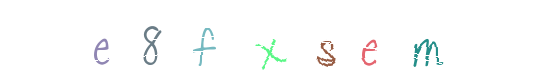8: (148, 0, 228, 80)
E: (111, 0, 191, 80), (305, 0, 385, 80)
F: (218, 0, 298, 80)
M: (385, 0, 465, 80)
S: (237, 0, 317, 80)
X: (230, 0, 310, 80)
